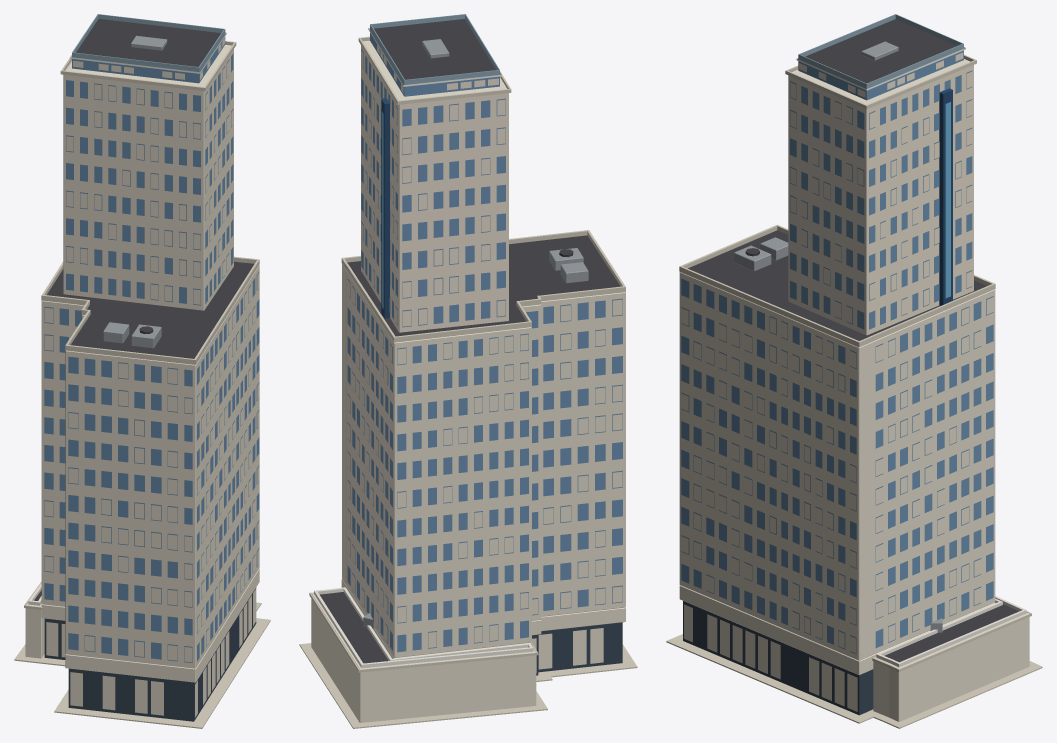
File: 3rd-street-tower.glb
3 renders of one model, left to right at view 1: azimuth 30°, elevation 25°; view 2: azimuth 150°, elevation 25°; view 3: azimuth 270°, elevation 25°, orthographic. The views are drawn at different scales.
Visible parts, largest first — view 1: 3rd-street-tower_body, 3rd-street-tower_night_glow; view 2: 3rd-street-tower_body, 3rd-street-tower_night_glow; view 3: 3rd-street-tower_body, 3rd-street-tower_night_glow.
Boxes of the visible parts, bbox=[...] form: 3rd-street-tower_body: bbox=[14, 14, 270, 728]; 3rd-street-tower_night_glow: bbox=[44, 32, 259, 717]; 3rd-street-tower_body: bbox=[299, 14, 637, 728]; 3rd-street-tower_night_glow: bbox=[347, 28, 622, 672]; 3rd-street-tower_body: bbox=[666, 14, 1042, 728]; 3rd-street-tower_night_glow: bbox=[681, 47, 993, 711].
Size of the model in its own units: 68.59 by 148 by 81.38.
